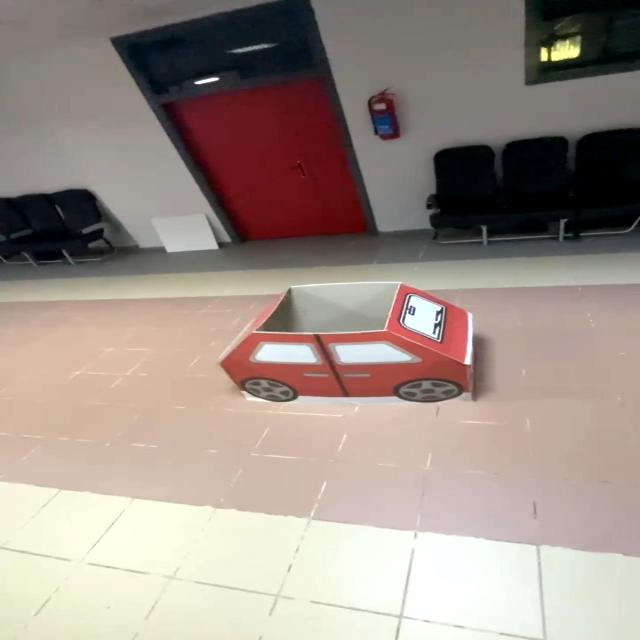red_car: (199, 271, 513, 433)
